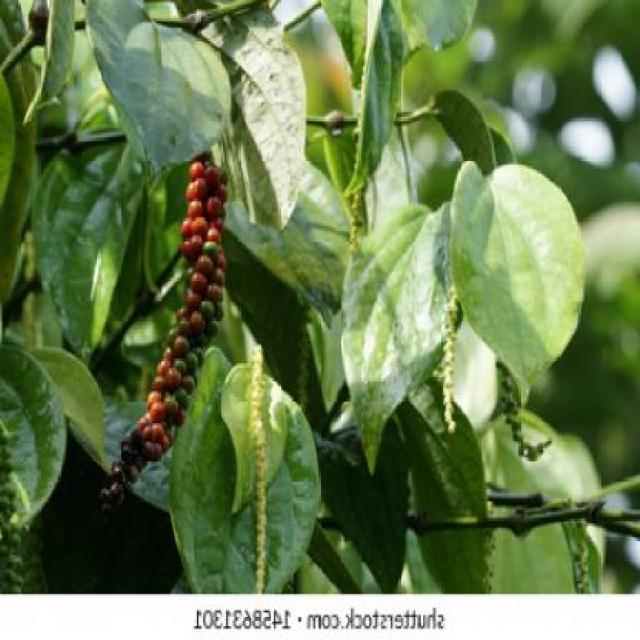RIPE: (137, 160, 231, 457)
UNRIPE: (497, 371, 554, 457), (253, 343, 270, 585), (2, 423, 25, 589), (445, 286, 460, 425), (351, 183, 363, 269)
